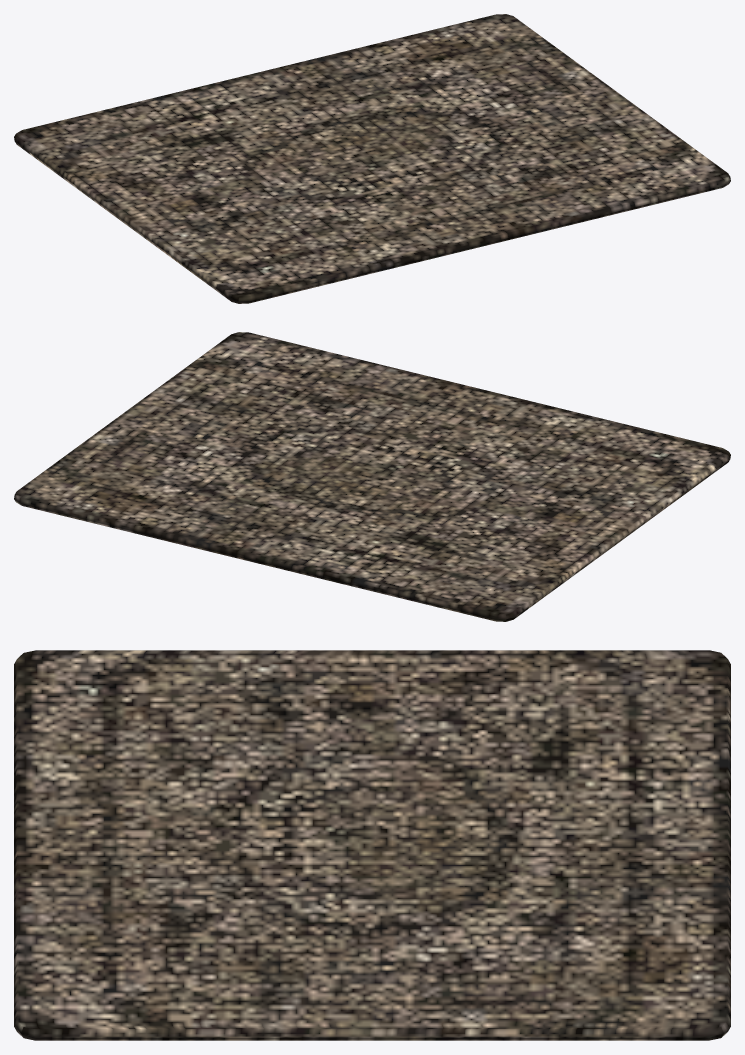
File: 080_brownmat01a.fbx
The picture shows the model from 3 angles, top to bottom: view 1: azimuth 30°, elevation 25°; view 2: azimuth 150°, elevation 25°; view 3: azimuth 270°, elevation 25°; orthographic projection. The views are drawn at different scales.
Visible parts, largest first — view 1: LOD_1_Group_0_Sub_1__sm30_080_BrownMat01A_A_Mat; view 2: LOD_1_Group_0_Sub_1__sm30_080_BrownMat01A_A_Mat; view 3: LOD_1_Group_0_Sub_1__sm30_080_BrownMat01A_A_Mat.
Part boxes in pixels (left/top/right/bottom): LOD_1_Group_0_Sub_1__sm30_080_BrownMat01A_A_Mat: left=14, top=14, right=730, bottom=303; LOD_1_Group_0_Sub_1__sm30_080_BrownMat01A_A_Mat: left=14, top=332, right=730, bottom=621; LOD_1_Group_0_Sub_1__sm30_080_BrownMat01A_A_Mat: left=14, top=650, right=730, bottom=1040.
Bounding box in the file's own units: 1.42 × 0.0193 × 1.13.
